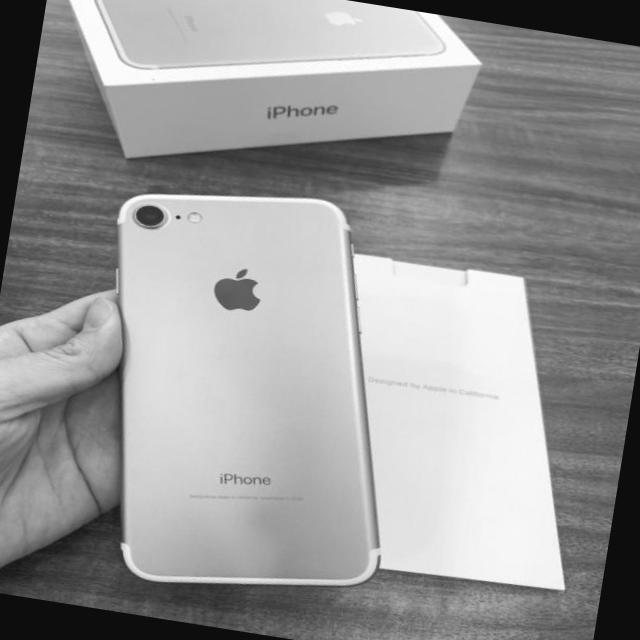lens: (136, 203, 170, 231)
phone: (109, 186, 378, 591)
